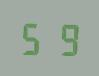five: (19, 19, 48, 55)
nine: (49, 20, 78, 56)
